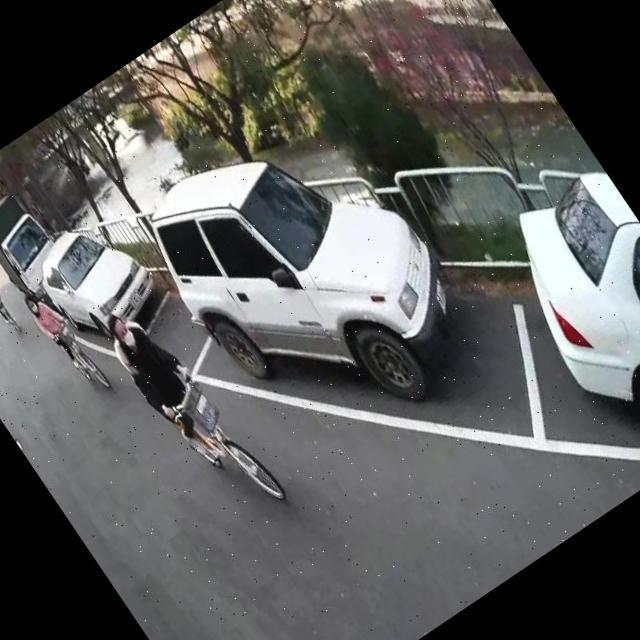person: (91, 290, 246, 482), (19, 281, 101, 384), (0, 273, 20, 332)
